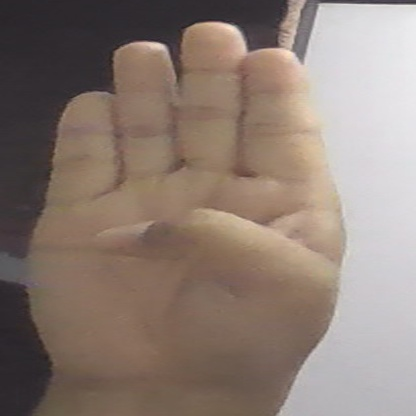B: (27, 24, 346, 399)
